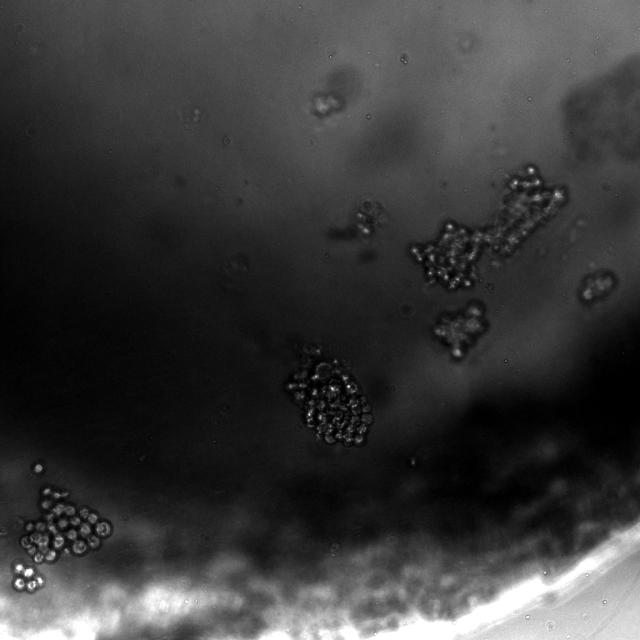organoid: (409, 165, 568, 291), (283, 345, 374, 446), (563, 54, 639, 162), (18, 485, 113, 563), (431, 299, 489, 360), (578, 270, 618, 306), (11, 557, 43, 592), (355, 199, 383, 236), (311, 92, 344, 118), (31, 458, 46, 475)
